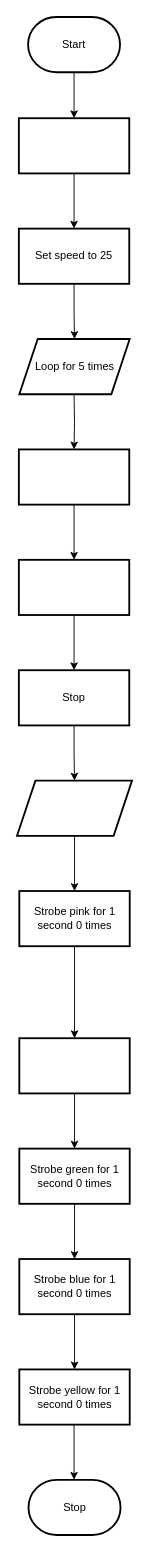
Image size: 148x1551. Some labels were removed from this diagram. Each missing label, with the centre of its shape:
Set heading to 0 degrees: pixel 73 145
Speak "I am the winner" and wait: pixel 74 807
Spin -360 degrees for 20 seconds: pixel 73 586
Spin 360 degrees for 20 seconds: pixel 73 476
Strobe red for 1 second 0 times: pixel 74 1065
